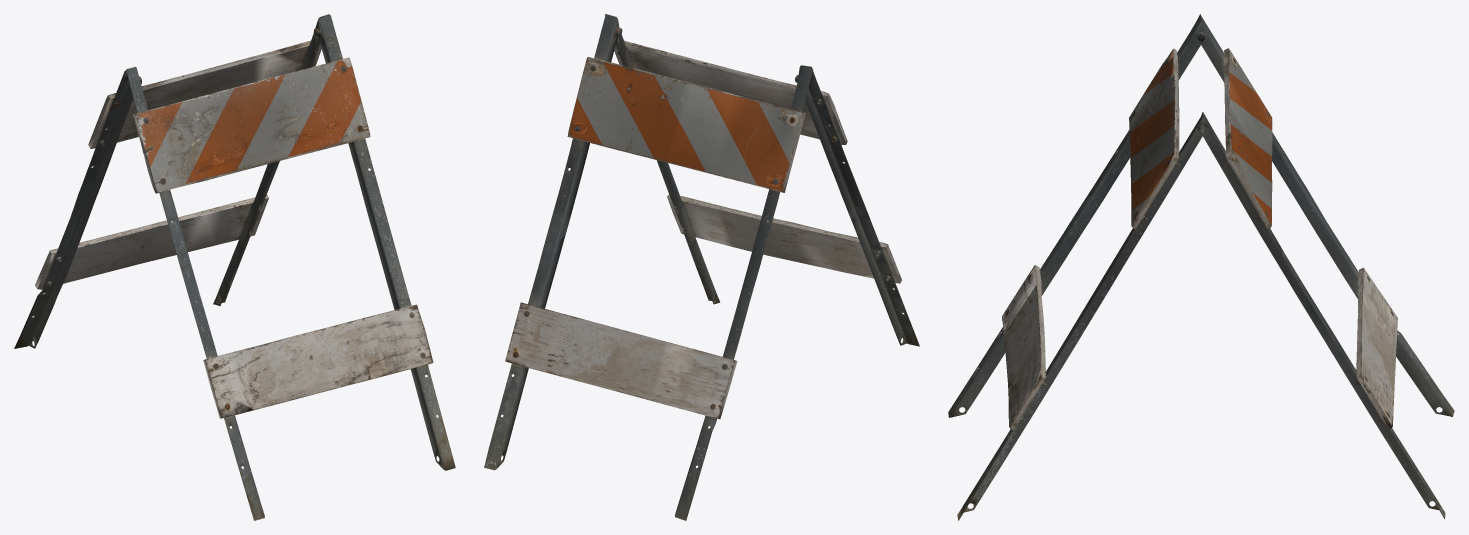
The model's file is RoadSign01.fbx.
3 views of the same model, side by side, from view 1: azimuth 30°, elevation 25°; view 2: azimuth 150°, elevation 25°; view 3: azimuth 270°, elevation 25° (orthographic). The views are drawn at different scales.
Visible parts, largest first — view 1: RoadSign01; view 2: RoadSign01; view 3: RoadSign01.
Part boxes in pixels (<box>): RoadSign01: <box>14,14,455,520</box>; RoadSign01: <box>484,14,919,520</box>; RoadSign01: <box>948,14,1454,520</box>.
Bounding box in the file's own units: 0.6269 × 1 × 1.15.
